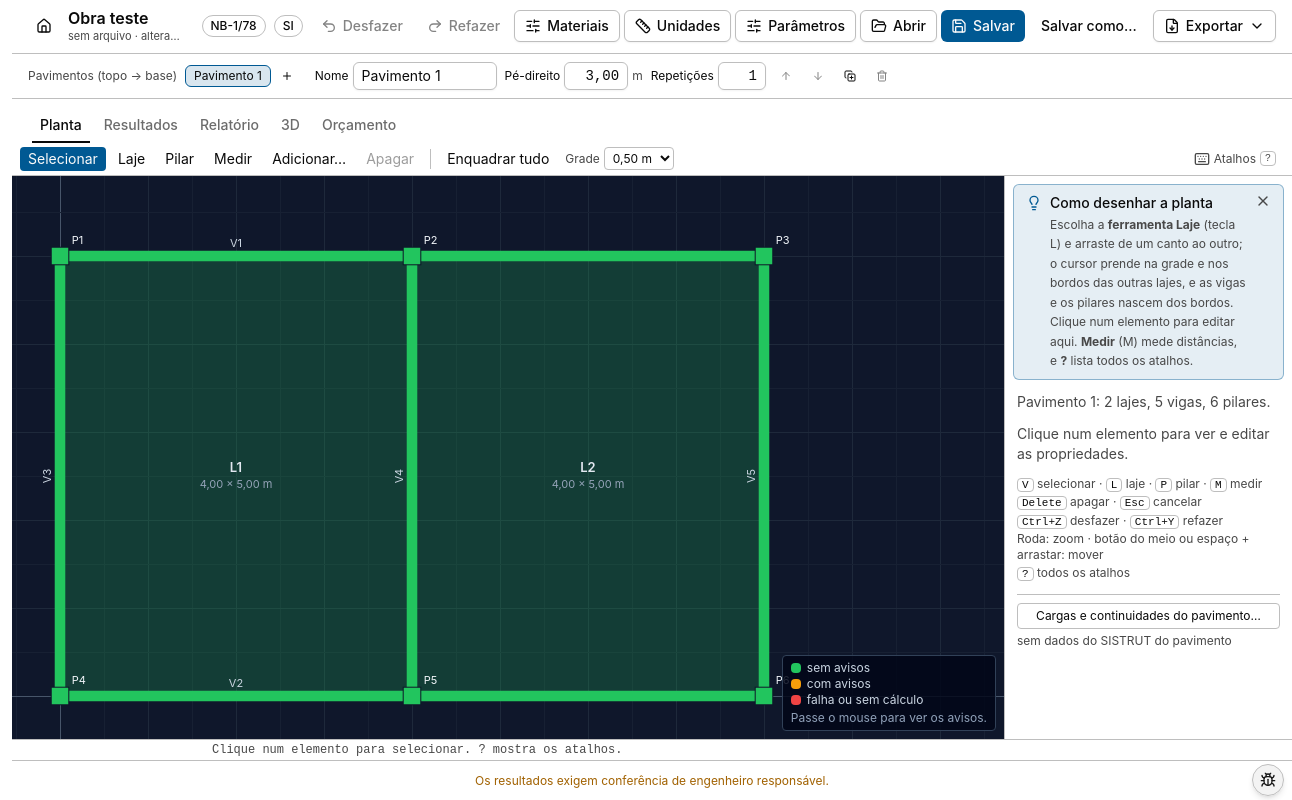
Test case: resultados pela nb1-78 › detalhamento por laje e por pilar, e as tabelas de aço da obra e por origem
What coordinates should you click on to do the following:
click the tab "Resultados"
I would click on:
 (141, 124)
Its box is [95, 110, 187, 139].
(page scrolled)
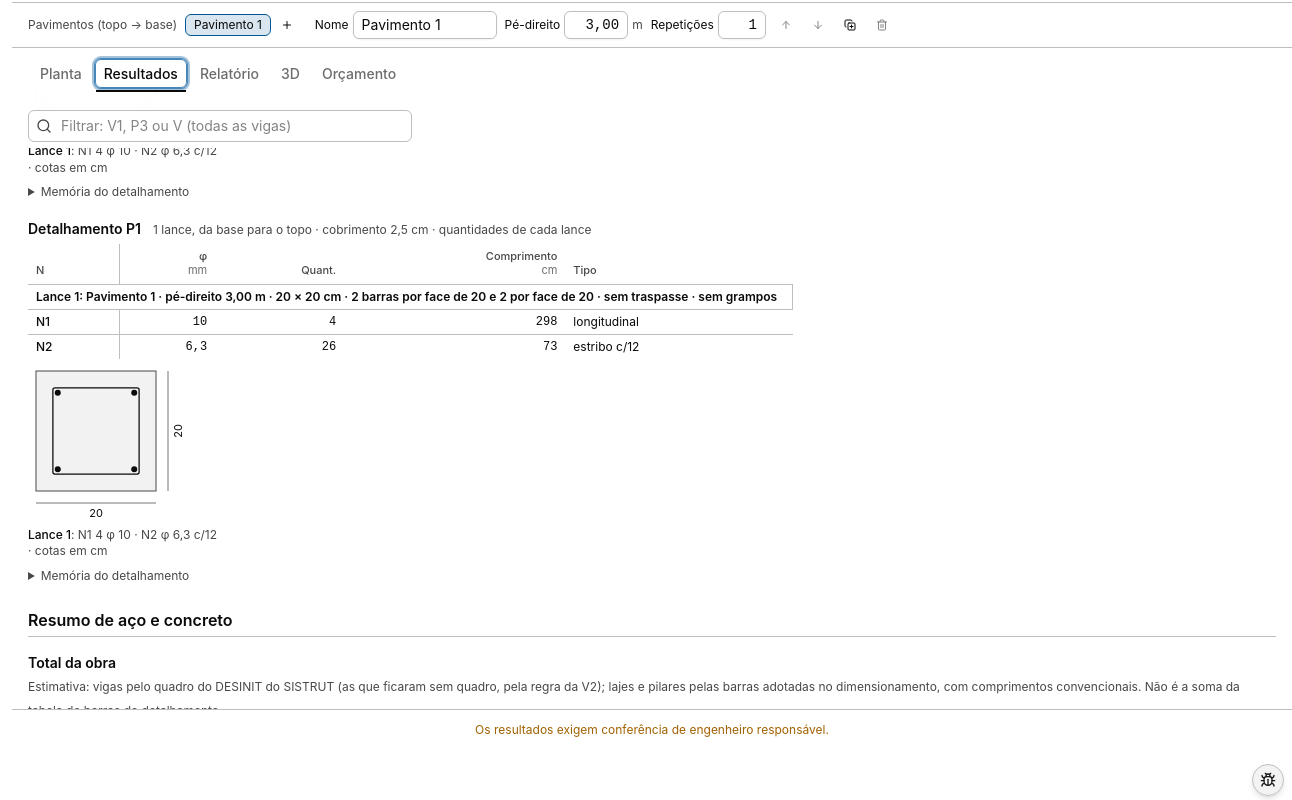
Now the element showing "N φ mm Quant. Comprimento cm Tipo" is shown, box [28, 244, 793, 284]
Now the element "Detalhamento P1" shows "Lance 1: Pavimento 1 · pé-direito 3,00 m", box [36, 289, 777, 304]
Now the element "Detalhamento P1" shows "sem traspasse", box [36, 289, 777, 304]
